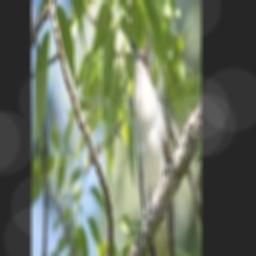Cuckoo: (128, 37, 174, 256)
